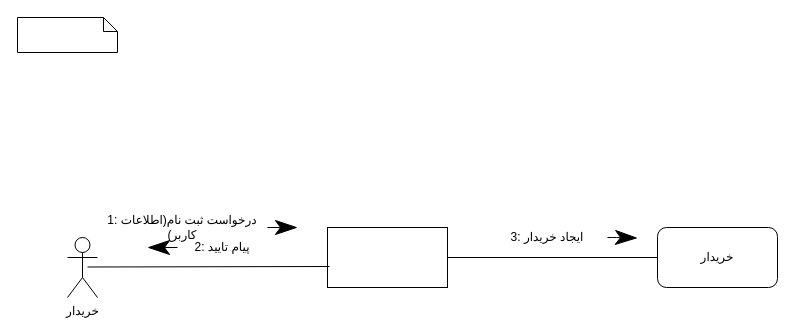
Image size: 795x336. Some labels were removed from this diagram. Here are the shapes that lost their labels. From the top down, the centre of each, then its label:
pixel 67 34: ثبت نام خریدار
pixel 387 257: سیستم
